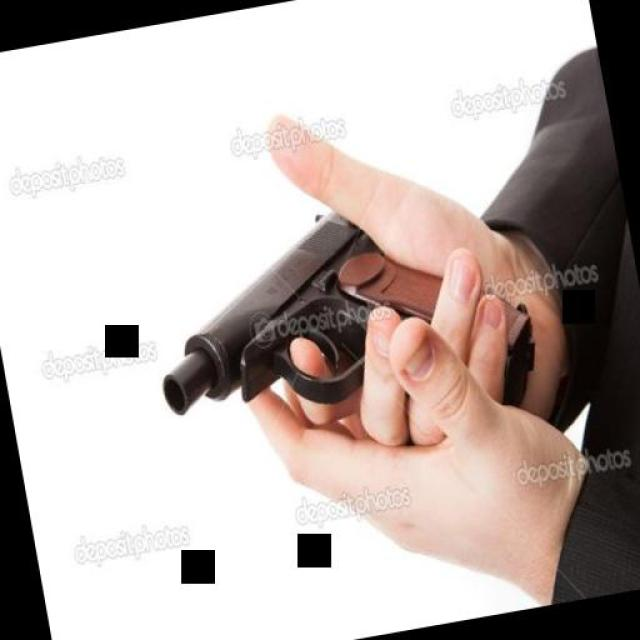gun: (120, 115, 565, 524)
